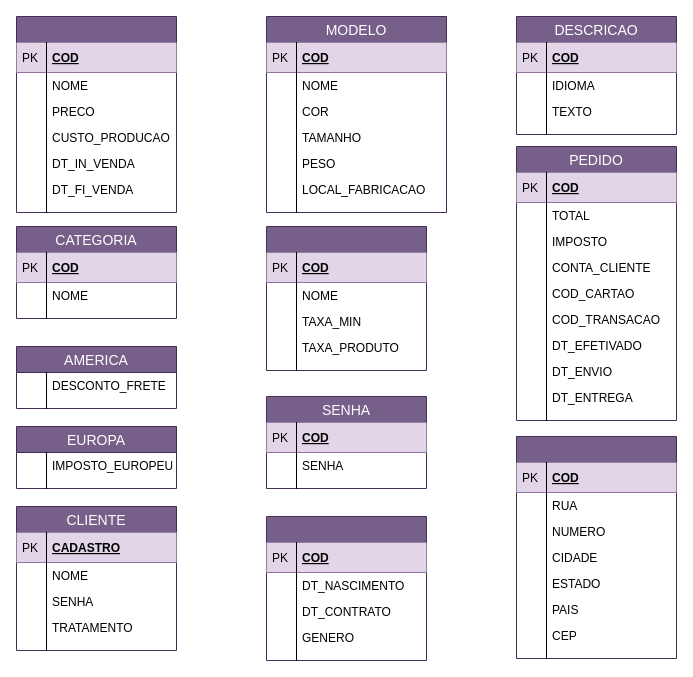
The diagram is 693 pixels wide and 677 high, and some of its shapes have lost their labels. Here are the shapes that lost their labels. From the top down, the box of each, then its label:
(16, 16, 176, 212): PRODUTO
(266, 226, 426, 370): TRANSPORTADORA
(516, 436, 676, 658): ENDERECO
(266, 516, 426, 660): FUNCIONARIO
